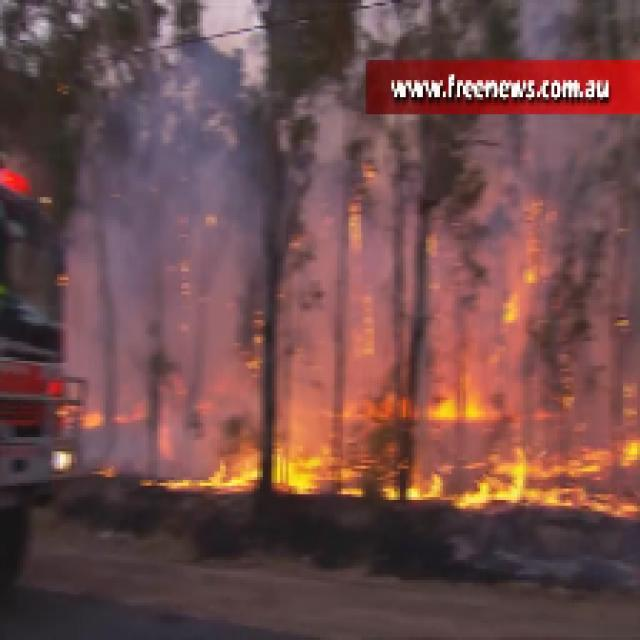Fire: (414, 448, 612, 506), (272, 440, 334, 494)
Smoke: (69, 40, 258, 366), (546, 117, 634, 354), (286, 103, 346, 380)
